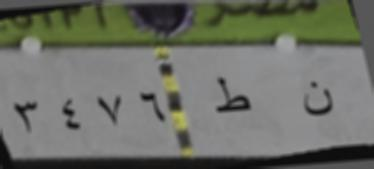3: (11, 92, 45, 138)
4: (55, 88, 85, 141)
6: (136, 82, 168, 134)
7: (95, 85, 130, 134)
Taa: (210, 72, 252, 123)
noon: (296, 75, 340, 120)
